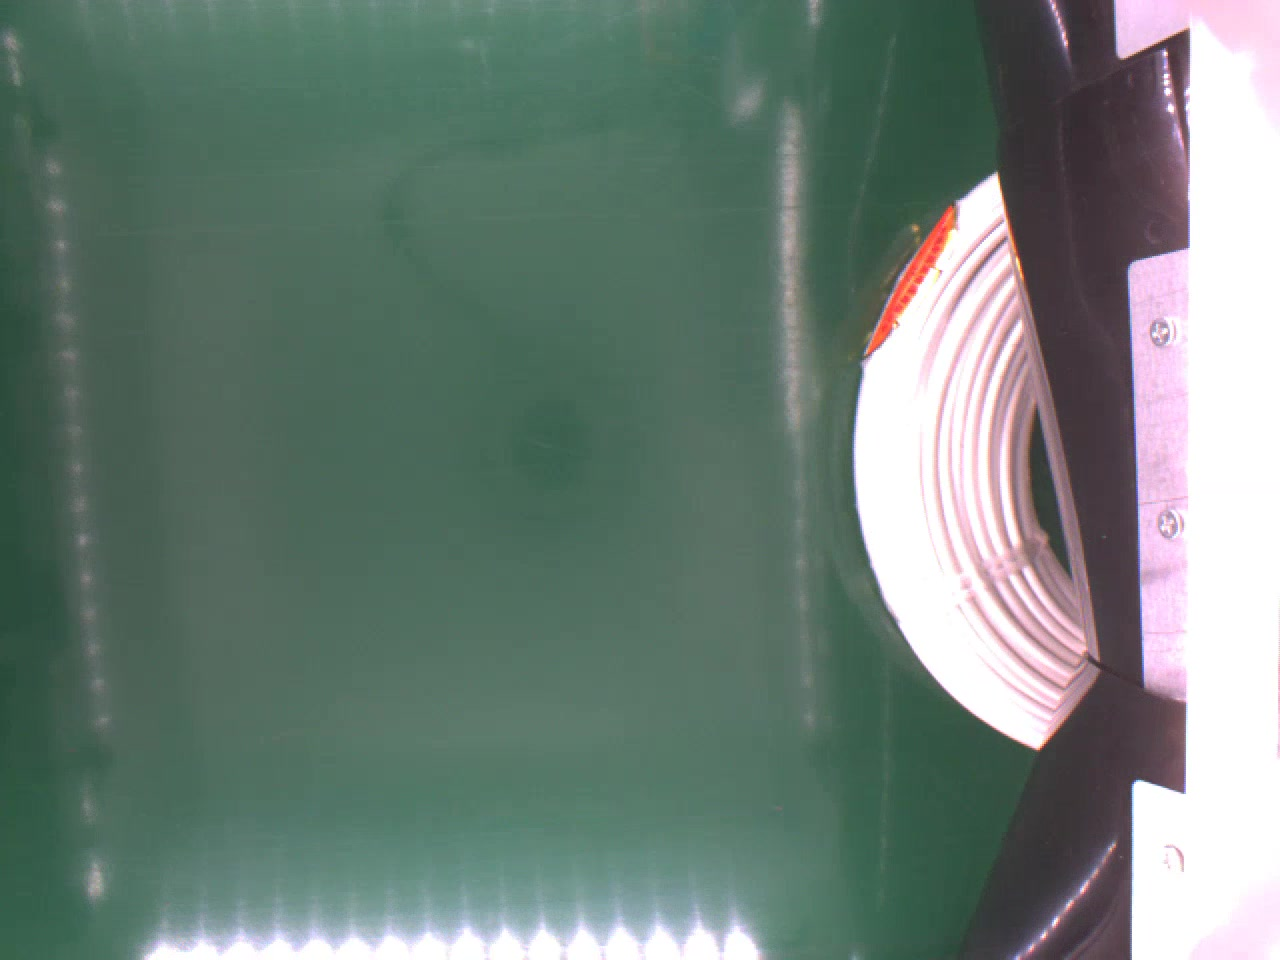white: (851, 166, 1084, 753)
